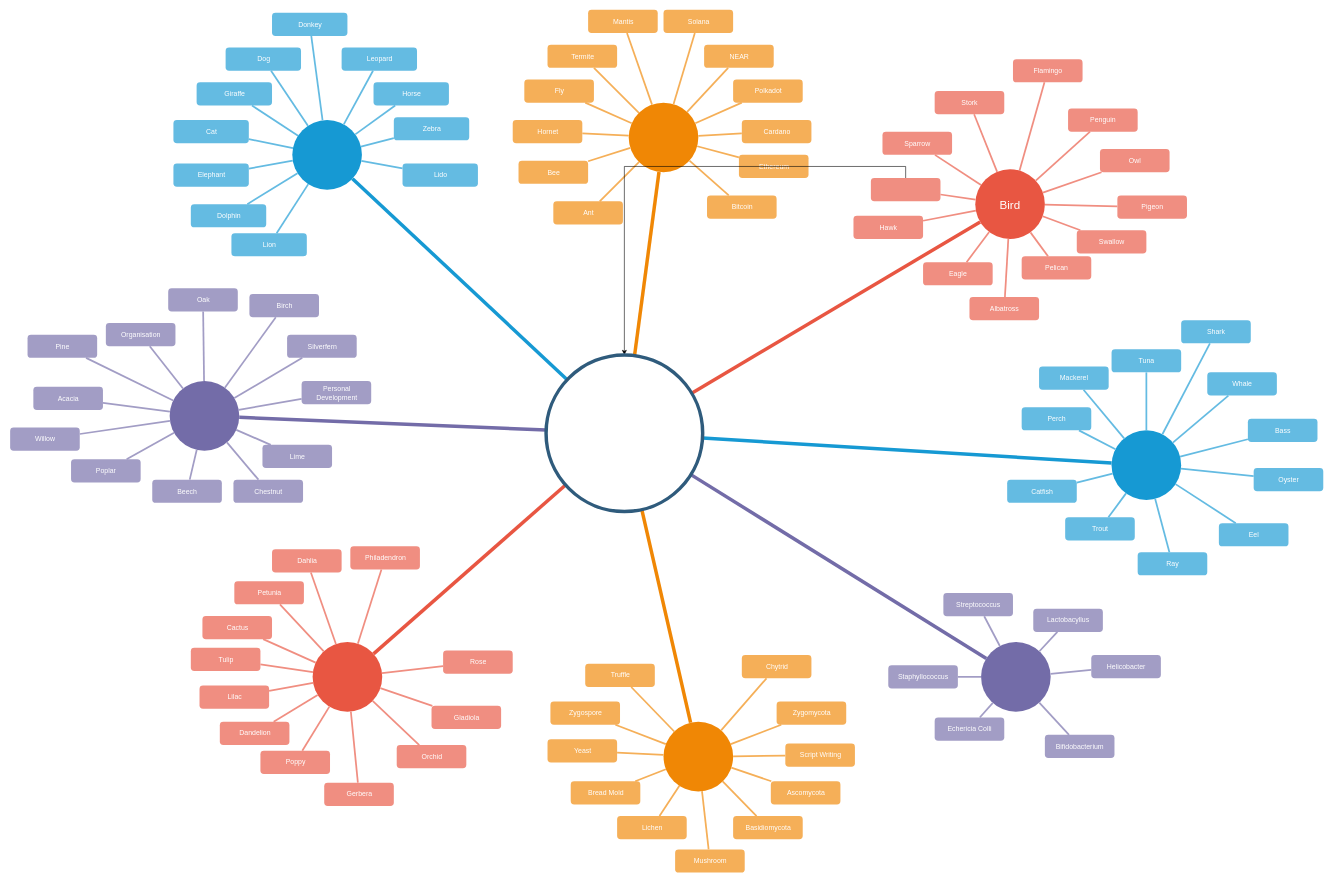
This 1333x883 diagram has some shape labels left out. The centre of each missing label's shape, as x and y in pixels:
"Bacteria" belongs at point 1015,676.
"Blockchain" belongs at point 624,433.
"Defi" belongs at point 327,154.
"Falcon" belongs at point 905,189.
"Fish" belongs at point 1146,465.
"Flower" belongs at point 347,676.
"Fungi" belongs at point 698,756.
"Layer1" belongs at point 663,137.
"Tree" belongs at point 204,415.
